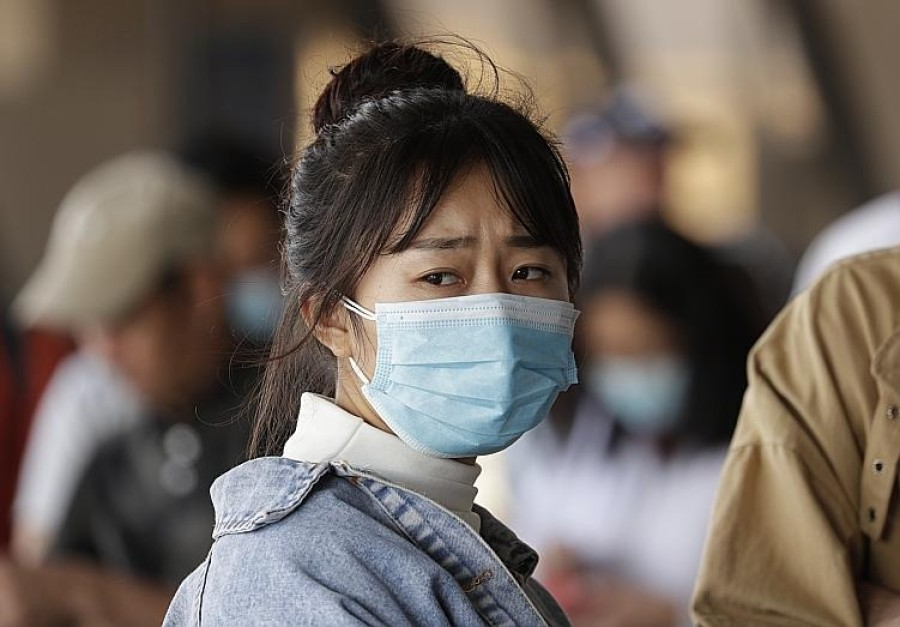surgical: (344, 283, 591, 460)
